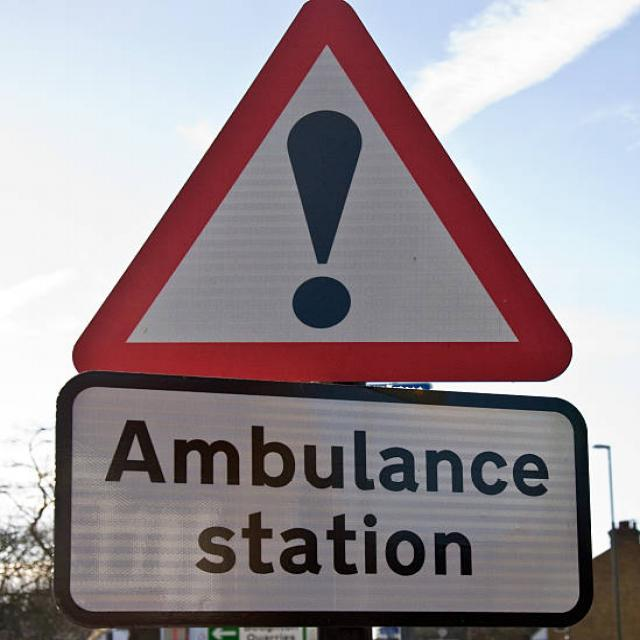warning: (34, 0, 599, 390)
